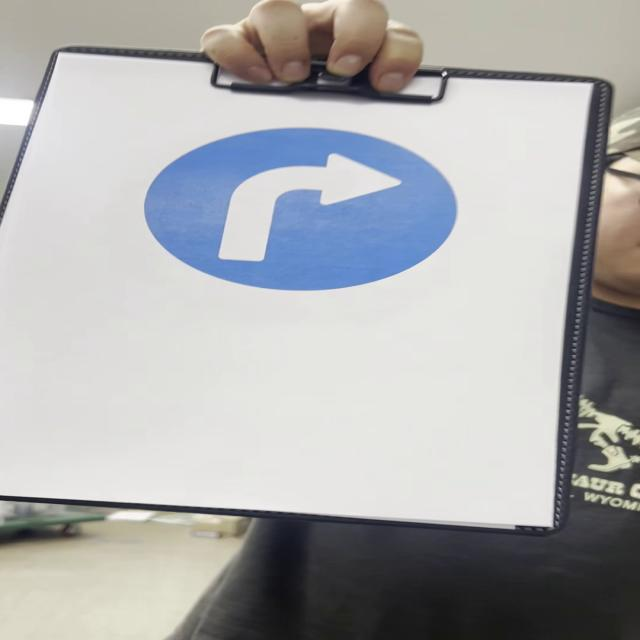right: (145, 129, 462, 291)
